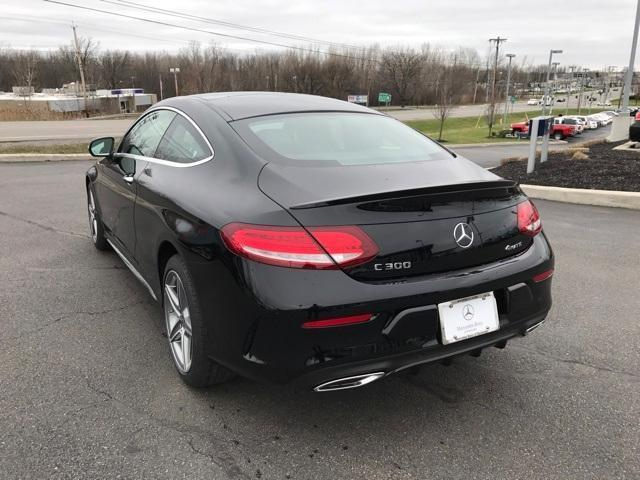C300Coupe: (73, 81, 556, 404)
